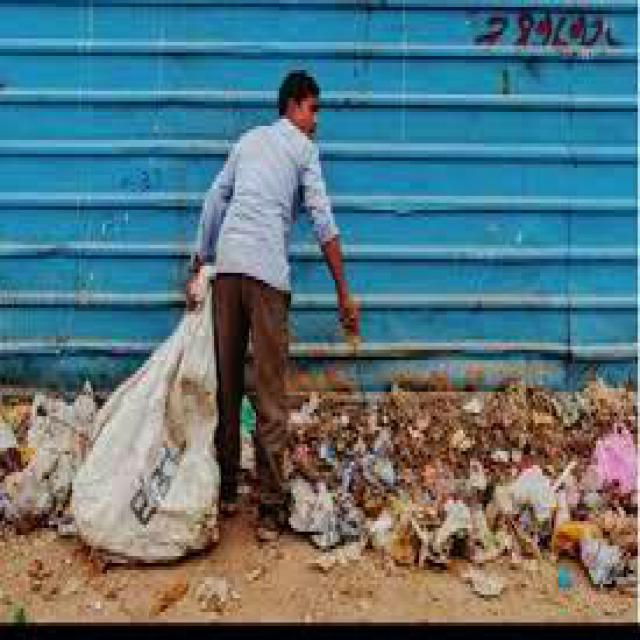garbage: (298, 406, 638, 584), (0, 395, 98, 521)
